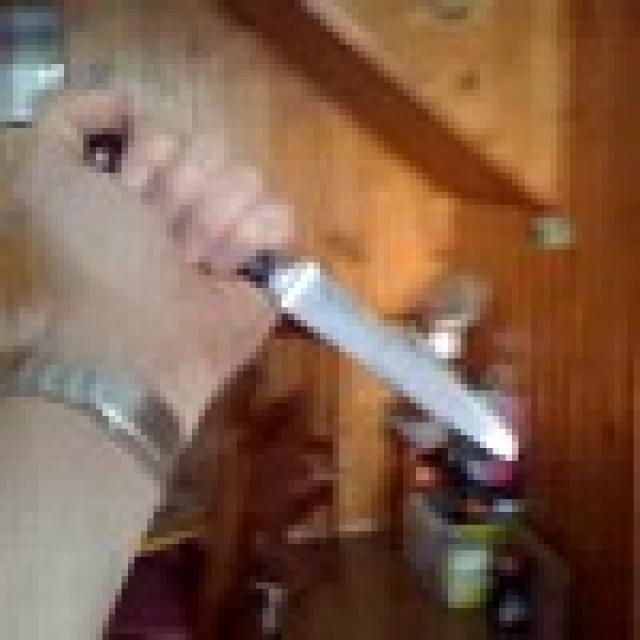Knife: (84, 122, 518, 460)
